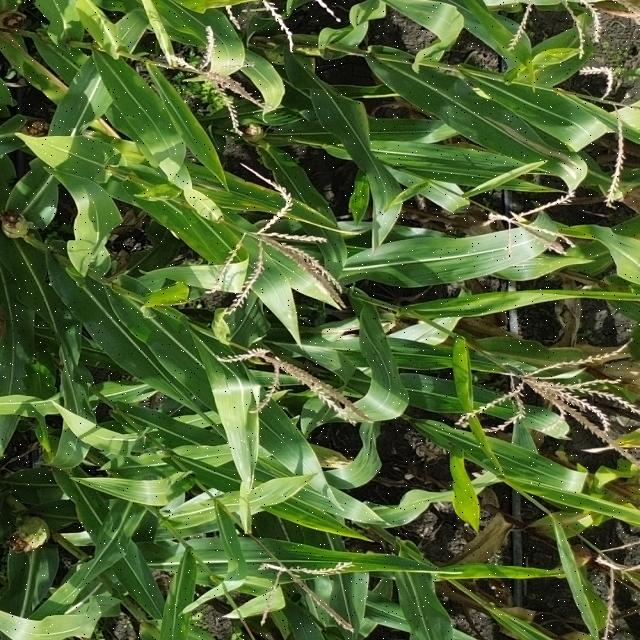northern-leaf-blight: (302, 439, 385, 500)
